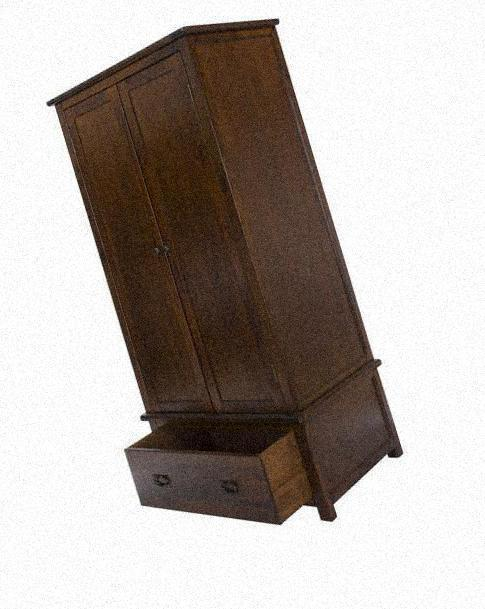Armario: (41, 17, 401, 540)
